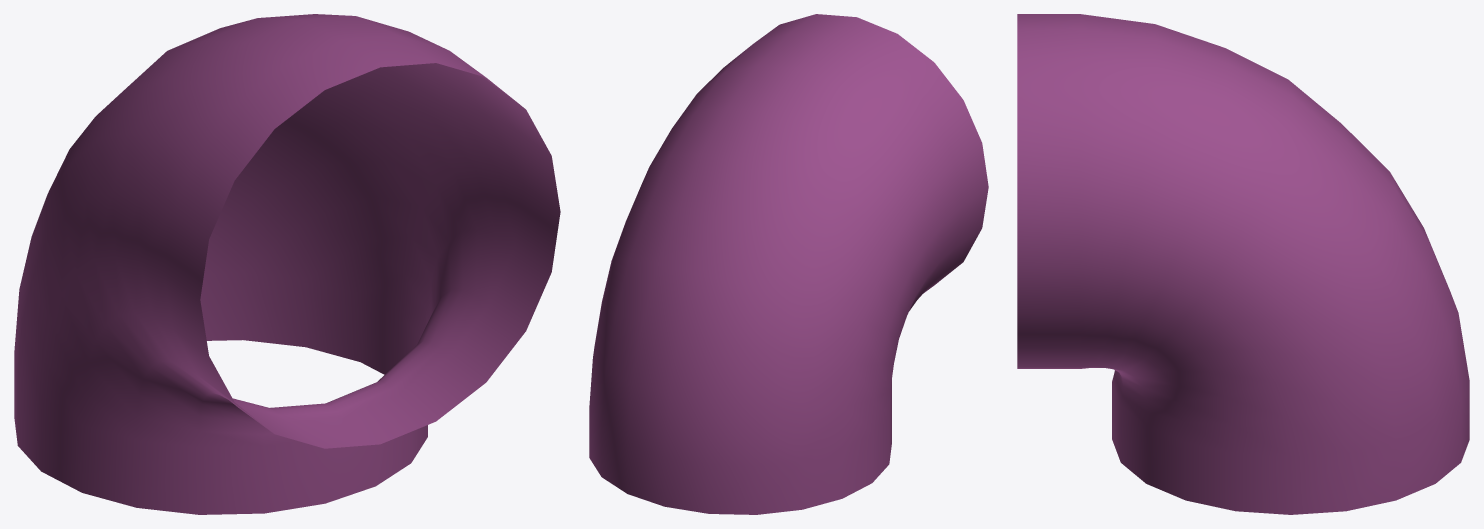
Rendered from SM_Pipes_CurveDown.fbx.
3 views of the same model, side by side, from view 1: azimuth 30°, elevation 25°; view 2: azimuth 150°, elevation 25°; view 3: azimuth 270°, elevation 25° (orthographic). The views are drawn at different scales.
Parts seen in each view (by area): view 1: SM_Pipes_CurveDown; view 2: SM_Pipes_CurveDown; view 3: SM_Pipes_CurveDown.
Part boxes in pixels (x1,y1,x2,y2): SM_Pipes_CurveDown: [14, 14, 560, 514]; SM_Pipes_CurveDown: [589, 14, 988, 514]; SM_Pipes_CurveDown: [1017, 14, 1469, 514].
Bounding box in the file's own units: 327 × 413 × 413.
